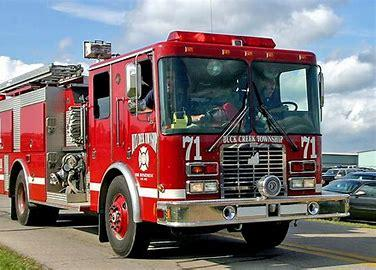Fire-engine: (0, 29, 350, 258)
